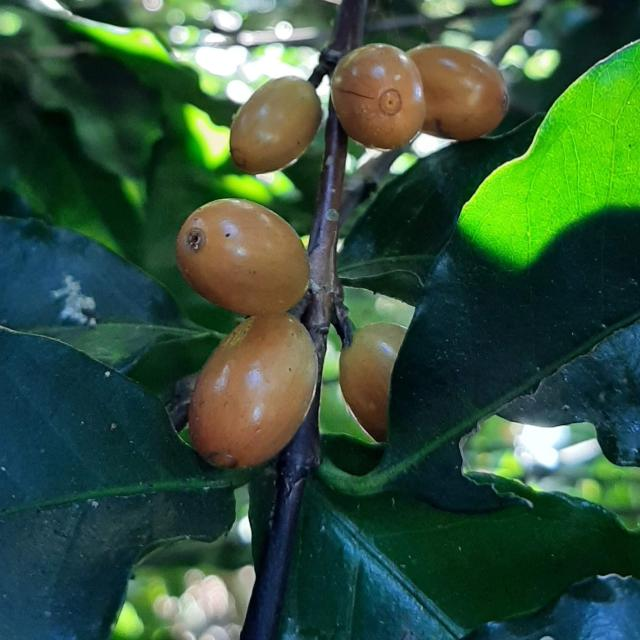Ripe: (189, 313, 318, 470), (176, 198, 309, 316), (331, 43, 426, 149), (408, 44, 510, 140), (230, 75, 322, 174), (340, 323, 407, 442)
